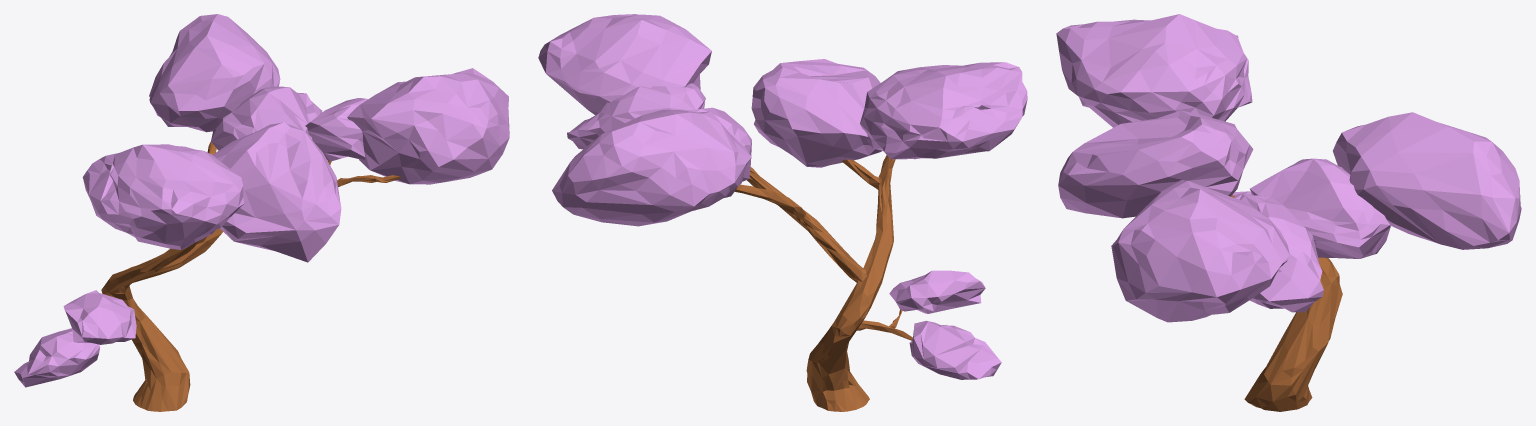
Rendered from Arbre001.fbx.
3 views of the same model, side by side, from view 1: azimuth 30°, elevation 25°; view 2: azimuth 150°, elevation 25°; view 3: azimuth 270°, elevation 25° (orthographic). The views are drawn at different scales.
Visible parts, largest first — view 1: Icosphere.054, Icosphere.050, Icosphere.051, Icosphere.052, BezierCurve.001, Icosphere.053, Icosphere.048, Icosphere.049, Icosphere.055; view 2: Icosphere.052, Icosphere.050, Icosphere.054, Icosphere.051, BezierCurve.001, Icosphere.049, Icosphere.055, Icosphere.048, Icosphere.053; view 3: Icosphere.052, Icosphere.054, Icosphere.050, Icosphere.051, Icosphere.053, BezierCurve.001, Icosphere.055.
Part boxes in pixels (x1,y1,x2,y2): Icosphere.054: [347, 68, 509, 184]; Icosphere.050: [82, 144, 244, 249]; Icosphere.051: [213, 122, 341, 262]; Icosphere.052: [149, 14, 280, 132]; BezierCurve.001: [101, 141, 401, 411]; Icosphere.053: [211, 86, 322, 150]; Icosphere.048: [63, 290, 136, 344]; Icosphere.049: [14, 328, 99, 387]; Icosphere.055: [305, 98, 367, 161]; Icosphere.052: [552, 109, 751, 226]; Icosphere.050: [860, 62, 1027, 159]; Icosphere.054: [538, 14, 711, 115]; Icosphere.051: [751, 59, 881, 167]; BezierCurve.001: [734, 155, 912, 411]; Icosphere.049: [909, 320, 1001, 379]; Icosphere.055: [567, 83, 705, 149]; Icosphere.048: [889, 270, 985, 313]; Icosphere.053: [686, 107, 751, 181]; Icosphere.052: [1333, 112, 1521, 249]; Icosphere.054: [1111, 180, 1289, 322]; Icosphere.050: [1056, 14, 1252, 127]; Icosphere.051: [1058, 110, 1253, 218]; Icosphere.053: [1250, 158, 1390, 258]; BezierCurve.001: [1231, 195, 1342, 411]; Icosphere.055: [1233, 194, 1323, 312].
Size of the model in its own units: 695 by 427 by 513.
